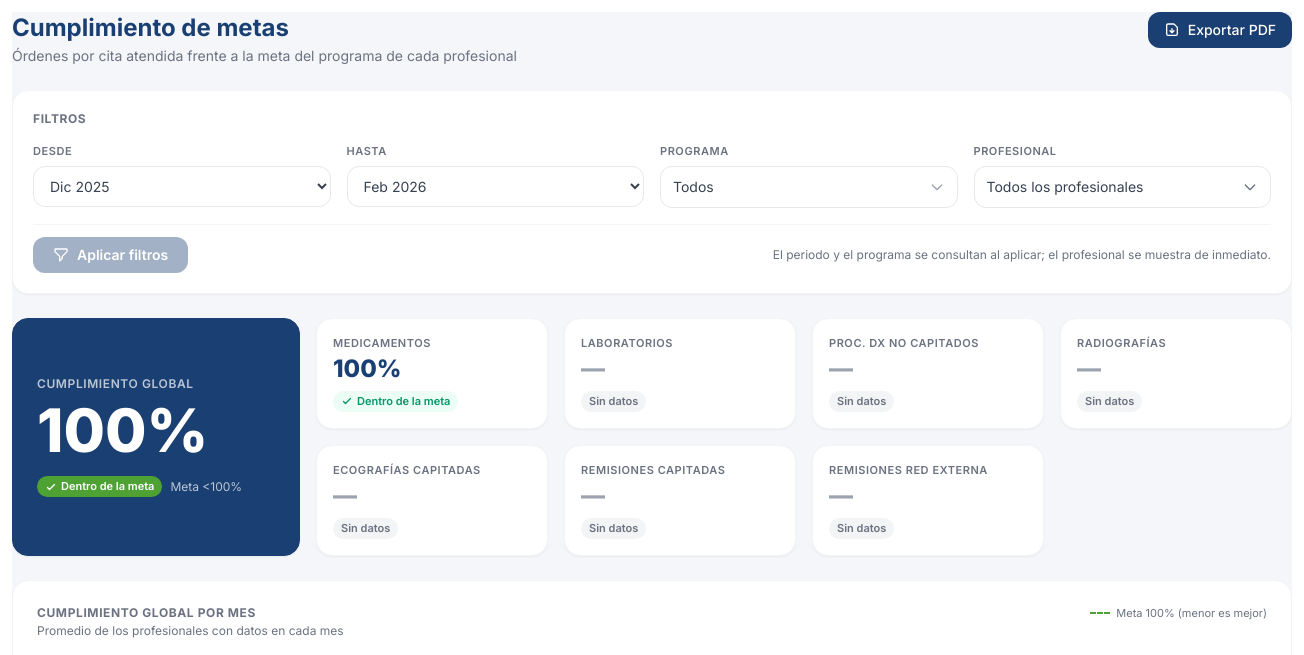
Scenario: CumplimientoView › el filtro de programas muestra las etiquetas del Excel y no ofrece el total
Click the button "Todos" at (693, 186), box [660,166,958,208]
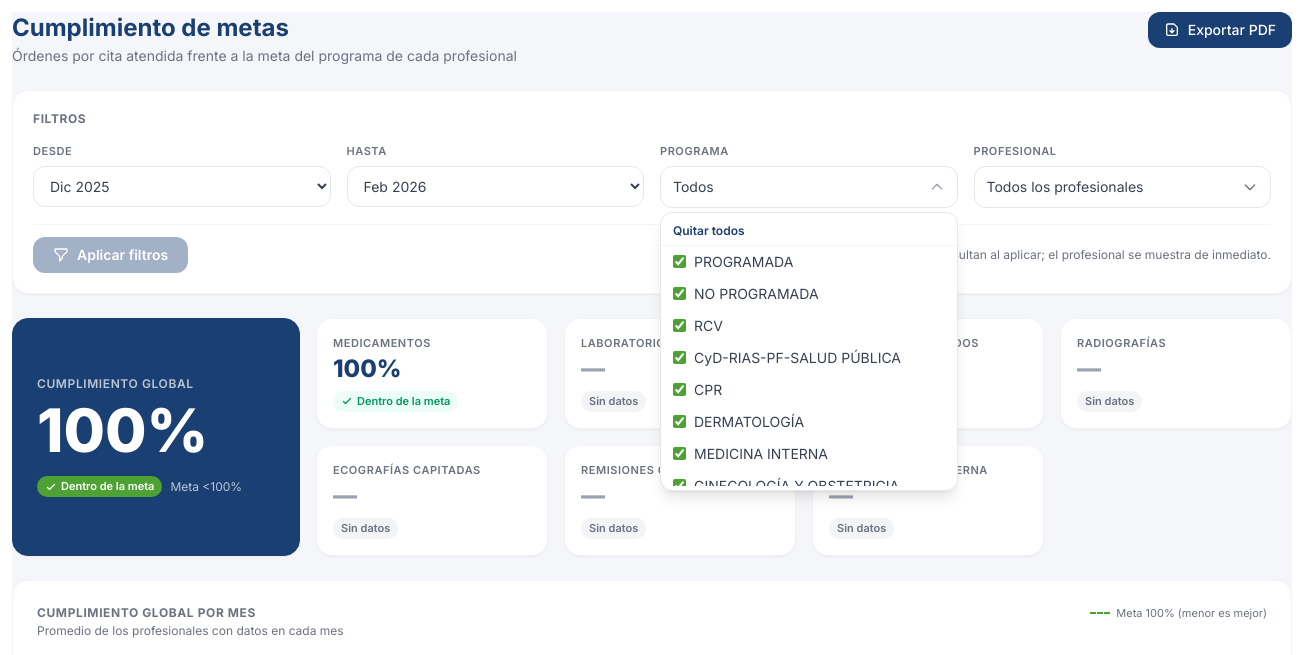
Expected: the checkbox labelled "CPR" is shown, [673,383,686,396]
